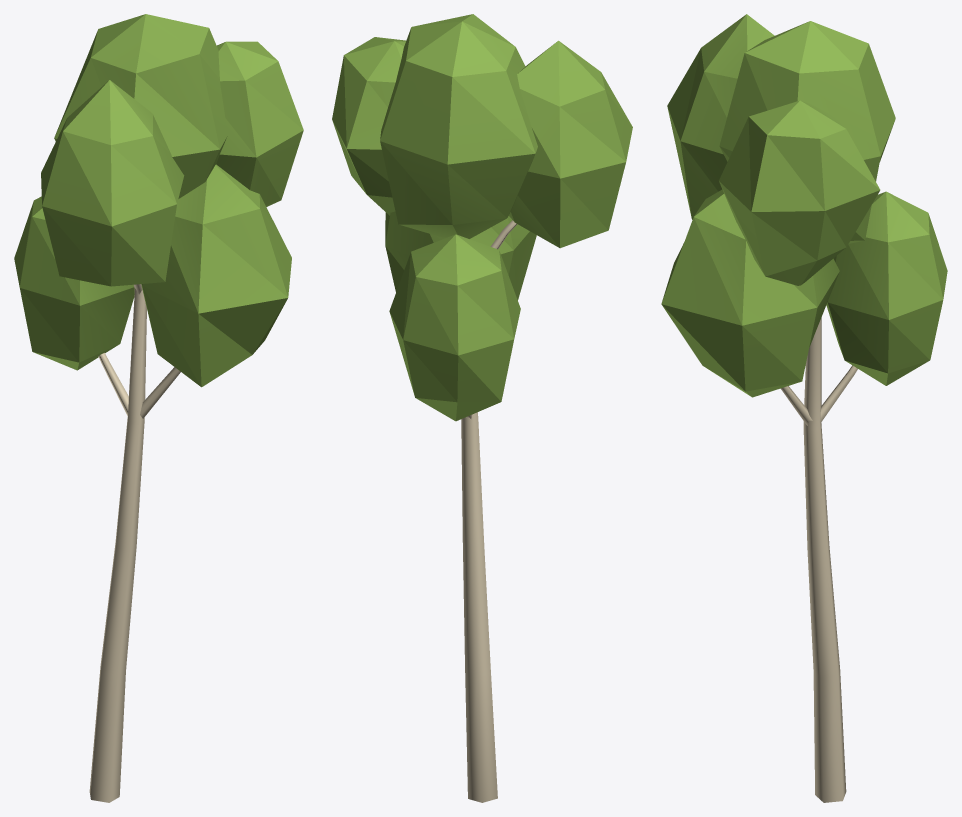
Rendered from birch_0.glb.
The picture shows the model from 3 angles, left to right: view 1: azimuth 30°, elevation 25°; view 2: azimuth 150°, elevation 25°; view 3: azimuth 270°, elevation 25°; orthographic projection. The views are drawn at different scales.
Visible parts, largest first — view 1: birch_0; view 2: birch_0; view 3: birch_0.
Part boxes in pixels (x1,y1,x2,y2): birch_0: [14, 14, 303, 802]; birch_0: [332, 14, 632, 802]; birch_0: [661, 14, 947, 802].
Bounding box in the file's own units: 2.63 × 7.44 × 2.44.
